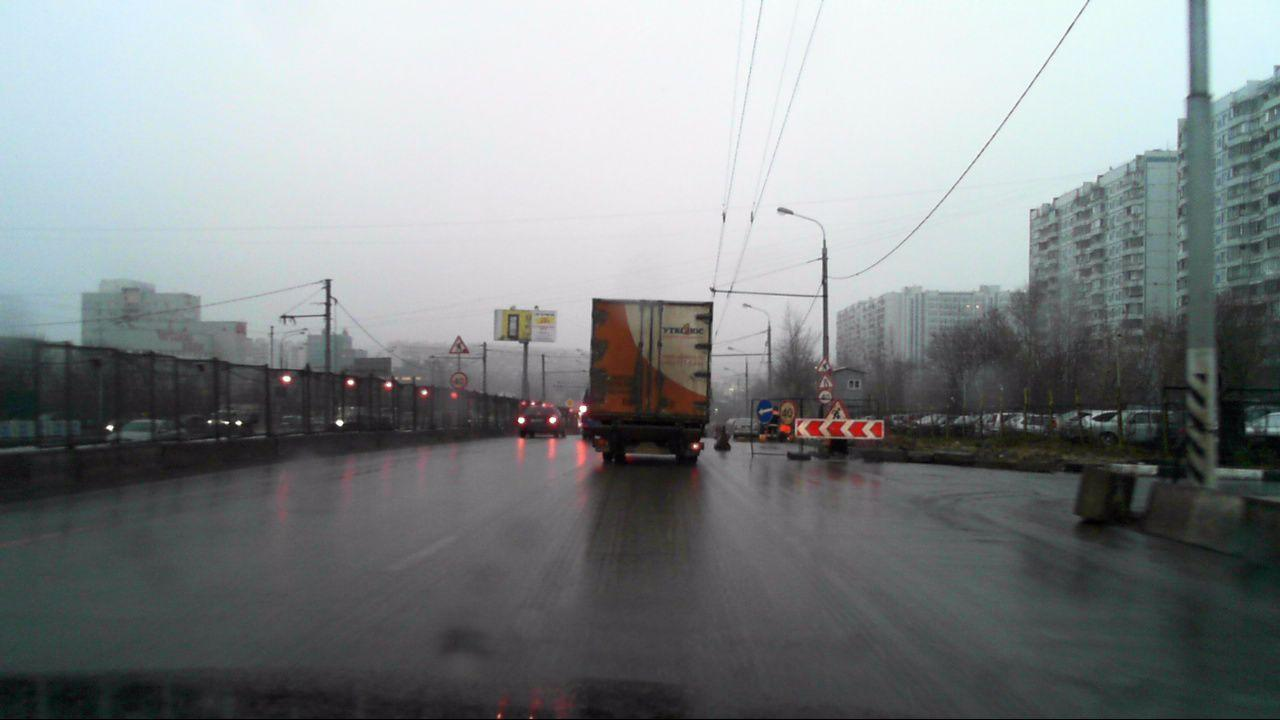1_20_2: (817, 374, 836, 389)
1_25: (826, 398, 850, 419), (816, 357, 833, 372)
1_34_2: (792, 415, 882, 443)
3_24: (780, 400, 796, 424), (818, 390, 833, 403)
4_2_2: (756, 399, 774, 423)
